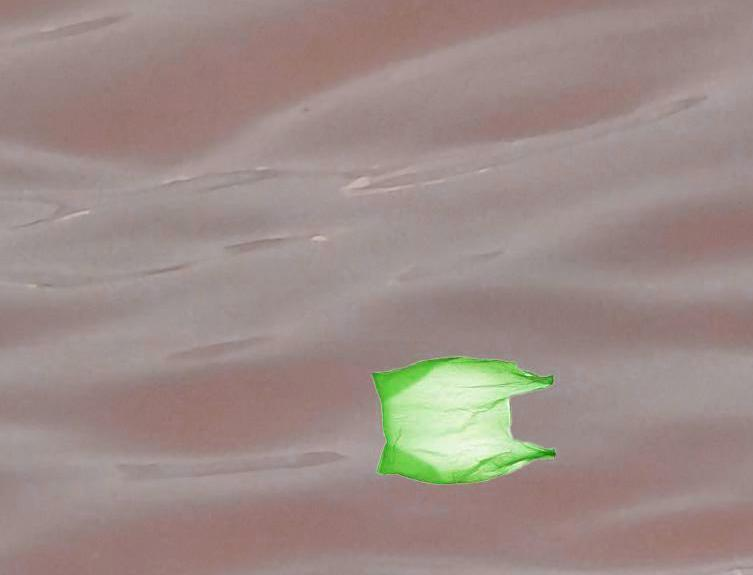Trash: (369, 355, 553, 490)
